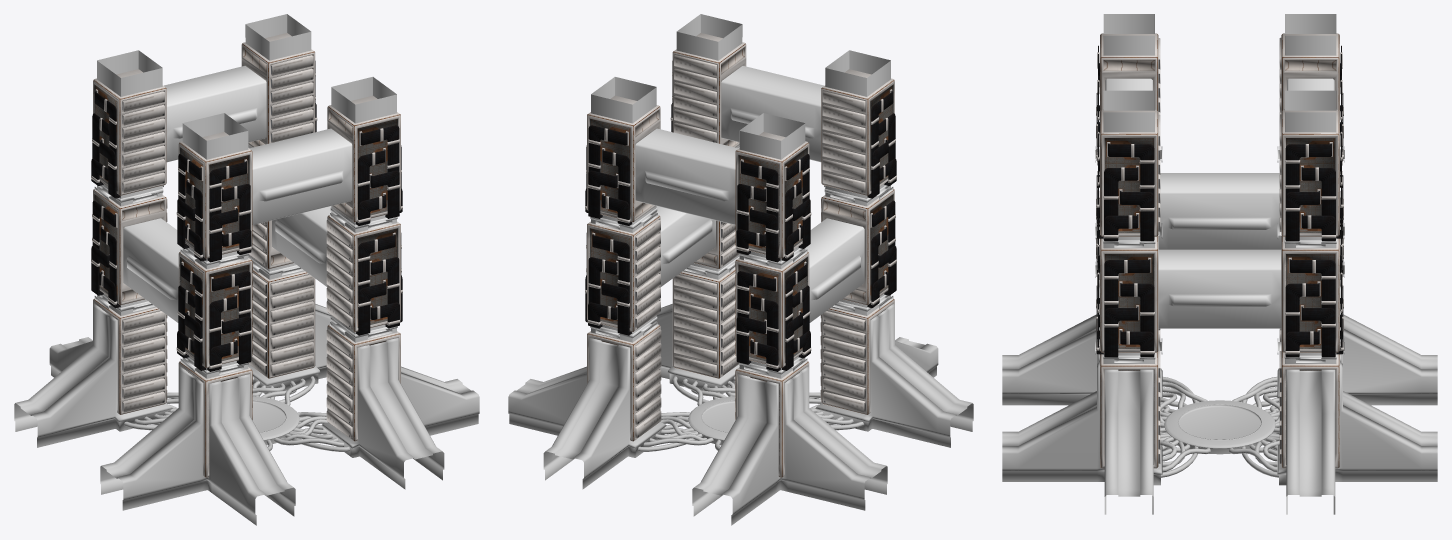
File: serverpillars.fbx
The picture shows the model from 3 angles, left to right: view 1: azimuth 30°, elevation 25°; view 2: azimuth 150°, elevation 25°; view 3: azimuth 270°, elevation 25°; orthographic projection. The views are drawn at different scales.
Parts seen in each view (by area): view 1: serverpillars; view 2: serverpillars; view 3: serverpillars.
Part boxes in pixels (left/top/right/bottom): serverpillars: left=14, top=14, right=479, bottom=525; serverpillars: left=508, top=14, right=973, bottom=525; serverpillars: left=1002, top=14, right=1437, bottom=514.
Bounding box in the file's own units: 685 × 644 × 685.
